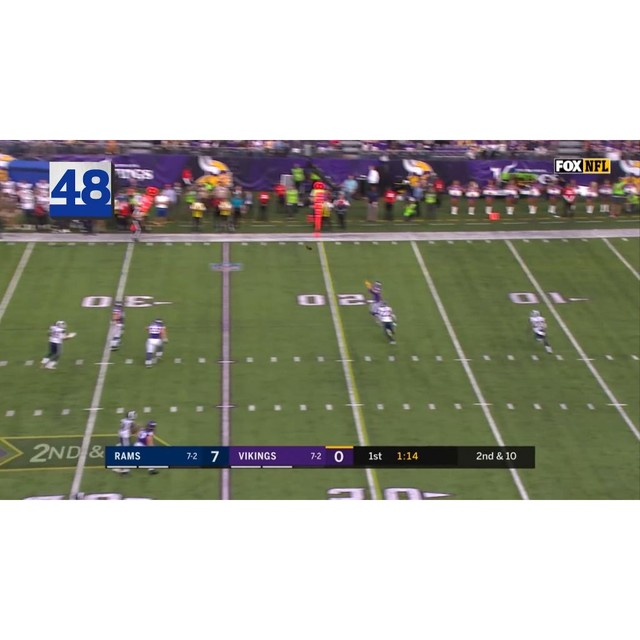american-football-player: (39, 319, 76, 370), (142, 318, 169, 368), (528, 310, 554, 354), (374, 300, 399, 344), (106, 301, 127, 352), (363, 278, 384, 318), (117, 410, 138, 446), (134, 420, 159, 447)
